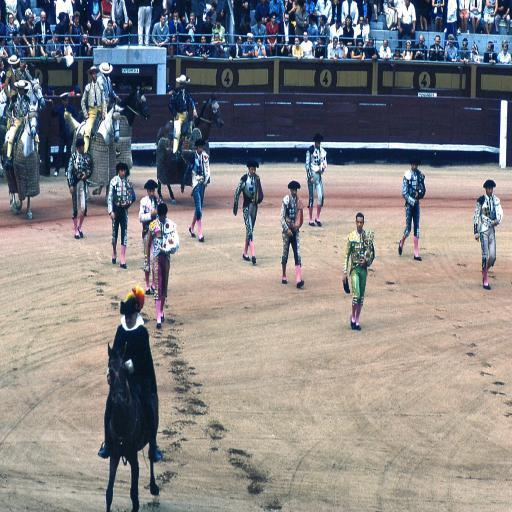Horse: (104, 339, 161, 512), (156, 94, 224, 204), (64, 104, 123, 218), (0, 76, 45, 178), (2, 102, 38, 220), (76, 80, 150, 129), (154, 118, 174, 143)
